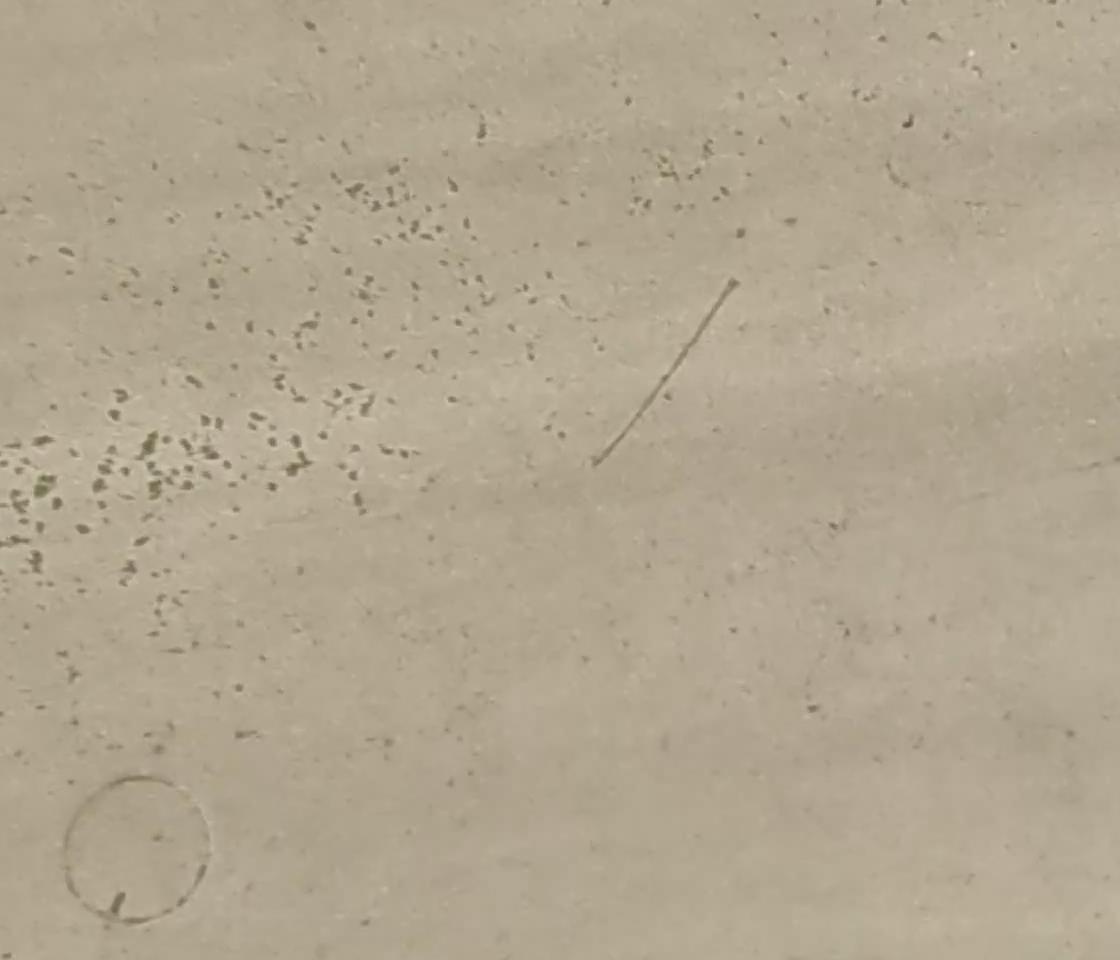scratch: (573, 272, 751, 469)
